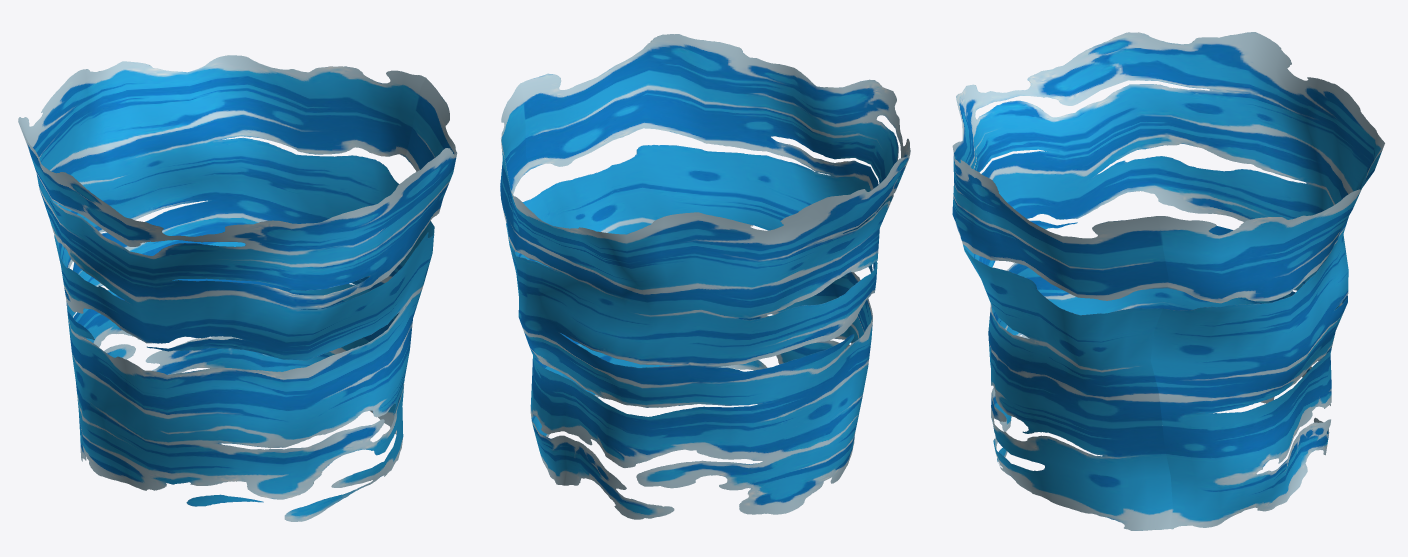
The model's file is shuizhu.FBX.
3 views of the same model, side by side, from view 1: azimuth 30°, elevation 25°; view 2: azimuth 150°, elevation 25°; view 3: azimuth 270°, elevation 25° (orthographic).
Parts seen in each view (by area): view 1: Plane001; view 2: Plane001; view 3: Plane001.
Boxes of the visible parts, x1,y1,x2,y2 form: Plane001: [18, 55, 457, 521]; Plane001: [500, 34, 910, 519]; Plane001: [952, 32, 1384, 530].
Size of the model in its own units: 42.21 by 40.66 by 42.75.
